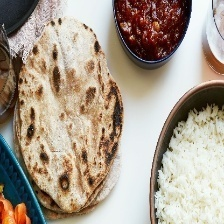roti: (12, 17, 122, 216)
